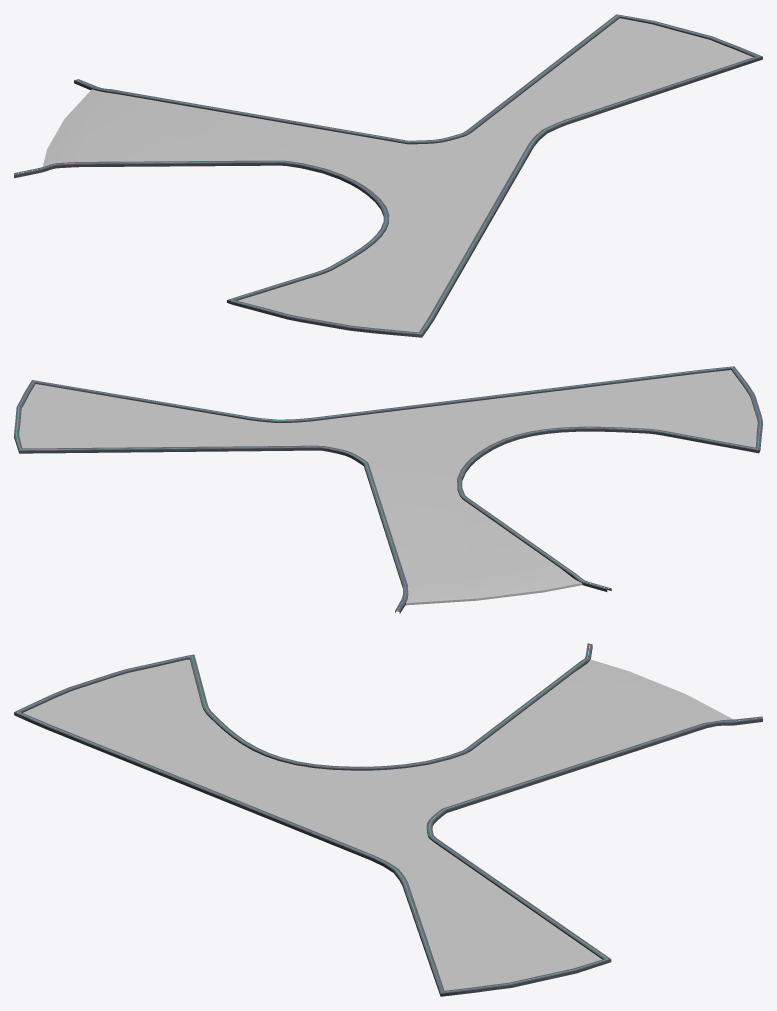
The model's file is mesh_1002_syq_sd010.FBX.
The picture shows the model from 3 angles, top to bottom: view 1: azimuth 30°, elevation 25°; view 2: azimuth 150°, elevation 25°; view 3: azimuth 270°, elevation 25°; orthographic projection. The views are drawn at different scales.
Visible parts, largest first — view 1: mesh_1002_syq_sd010, mesh_1002_syq_sd010b; view 2: mesh_1002_syq_sd010, mesh_1002_syq_sd010b; view 3: mesh_1002_syq_sd010, mesh_1002_syq_sd010b.
Boxes of the visible parts, <box> form: mesh_1002_syq_sd010: <box>42,18,752,332</box>; mesh_1002_syq_sd010b: <box>14,14,762,337</box>; mesh_1002_syq_sd010: <box>19,370,757,605</box>; mesh_1002_syq_sd010b: <box>14,366,762,613</box>; mesh_1002_syq_sd010: <box>23,659,733,990</box>; mesh_1002_syq_sd010b: <box>14,643,762,996</box>.
Bounding box in the file's own units: 5529 × 48.74 × 4942.
